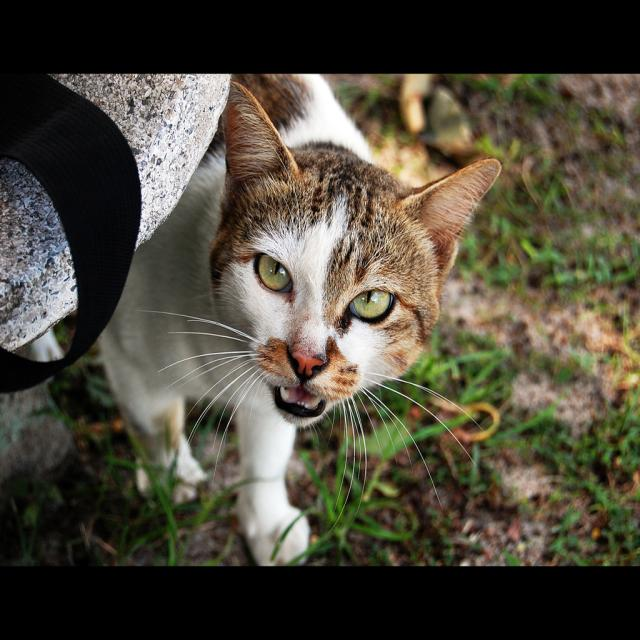Cat: (23, 74, 500, 567)
